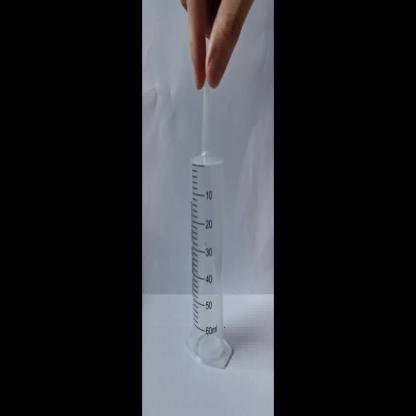dry: (182, 92, 237, 375)
